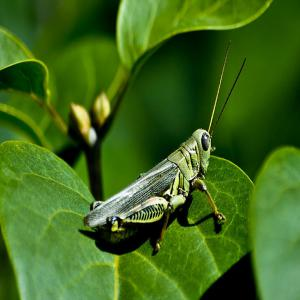locust: (86, 79, 236, 262)
